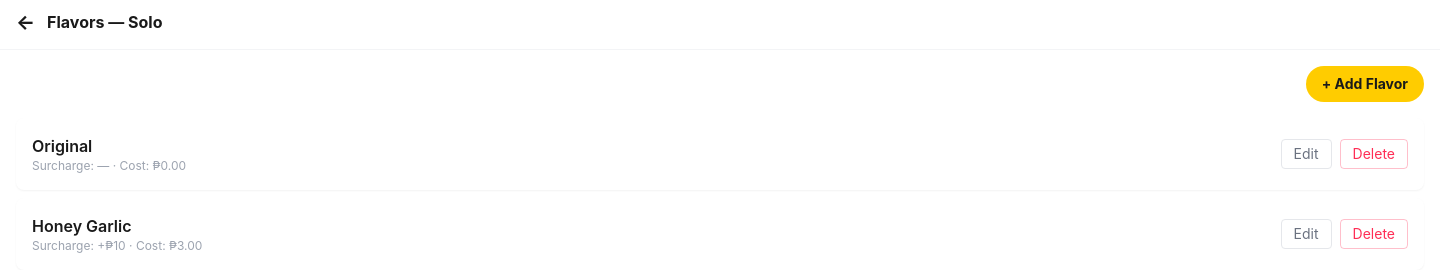
Flavors › removes flavor from list when Delete clicked
Check: the text "Original" is shown, box [32, 136, 92, 156]
Click the button "Delete" in the row of "Original".
click(1374, 154)  # box [1340, 139, 1408, 169]
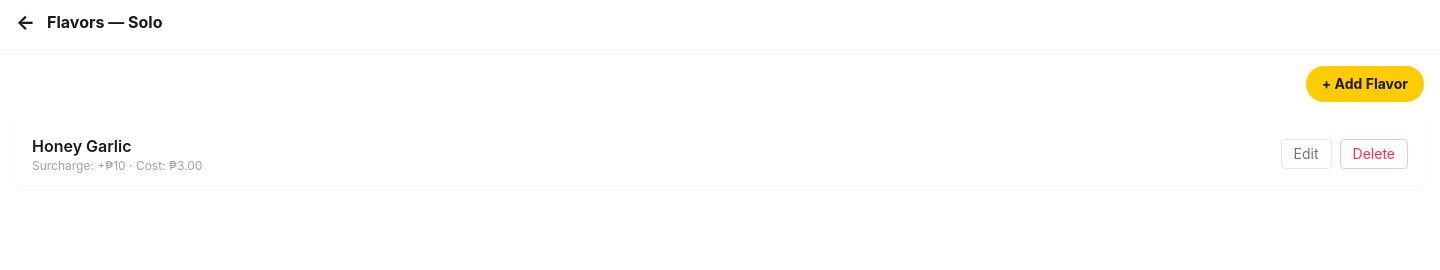
Check: the text "Original" is gone
